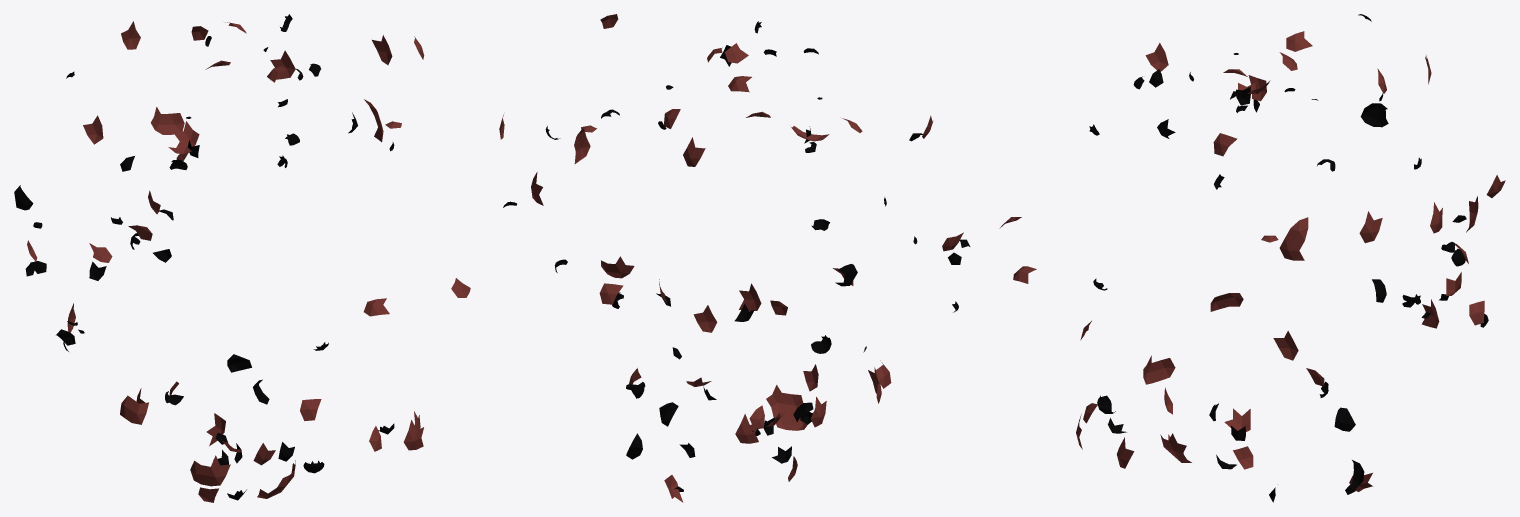
The model's file is explode.f0018.glb.
3 renders of one model, left to right at view 1: azimuth 30°, elevation 25°; view 2: azimuth 150°, elevation 25°; view 3: azimuth 270°, elevation 25°, orthographic. The views are drawn at different scales.
Visible parts, largest first — view 1: Body.001; view 2: Body.001; view 3: Body.001.
Boxes of the visible parts, x1=… form: Body.001: x1=14, y1=14, x2=470, y2=502; Body.001: x1=499, y1=14, x2=970, y2=502; Body.001: x1=999, y1=14, x2=1505, y2=502.
Size of the model in its own units: 13.82 by 14.2 by 14.27.
Materials: 1 (1 with a texture image).
